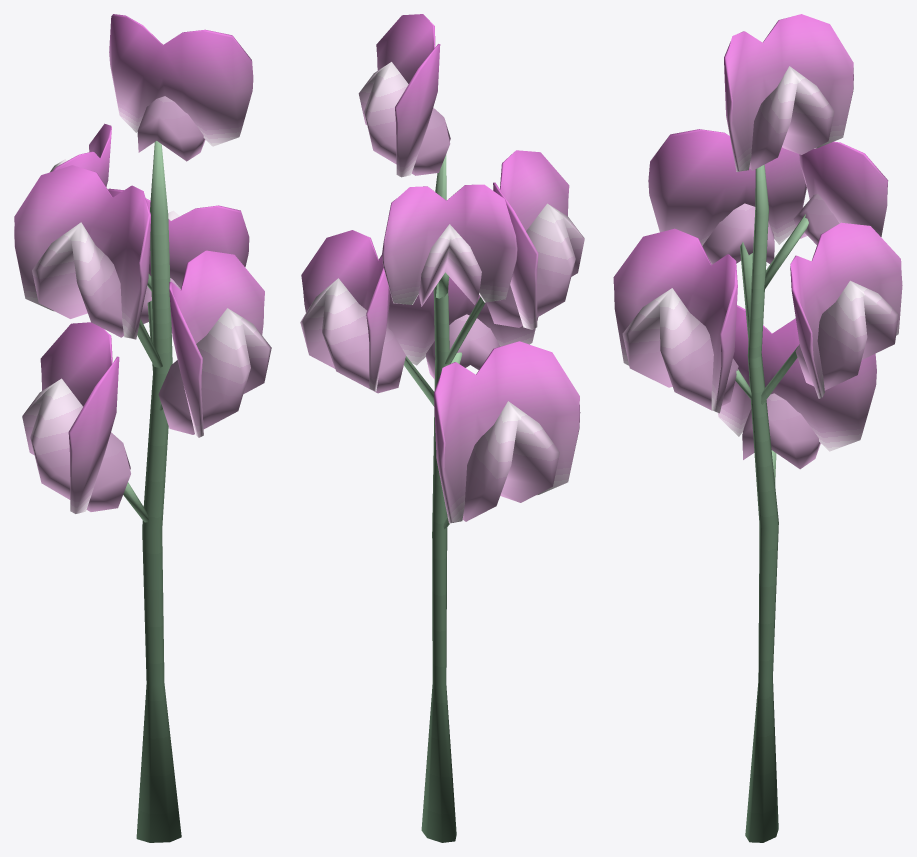
File: SweetPea.fbx
3 views of the same model, side by side, from view 1: azimuth 30°, elevation 25°; view 2: azimuth 150°, elevation 25°; view 3: azimuth 270°, elevation 25° (orthographic).
Parts seen in each view (by area): view 1: Flowers, Stem; view 2: Flowers, Stem; view 3: Flowers, Stem.
Part boxes in pixels (box(x1,y1,x2,y2)): Flowers: box(14, 14, 271, 513); Stem: box(123, 141, 181, 842); Flowers: box(300, 14, 584, 523); Stem: box(404, 154, 485, 842); Flowers: box(613, 14, 902, 469); Stem: box(735, 164, 808, 842).
Size of the model in its own units: 135 by 427 by 137.
